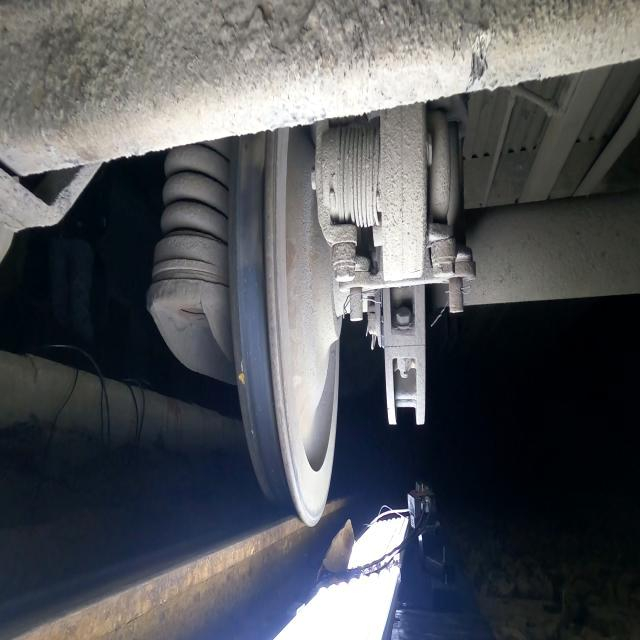Cracks-Scratches: (237, 358, 245, 387)
Shelling: (235, 134, 267, 271)
Wheel: (229, 129, 341, 525)
